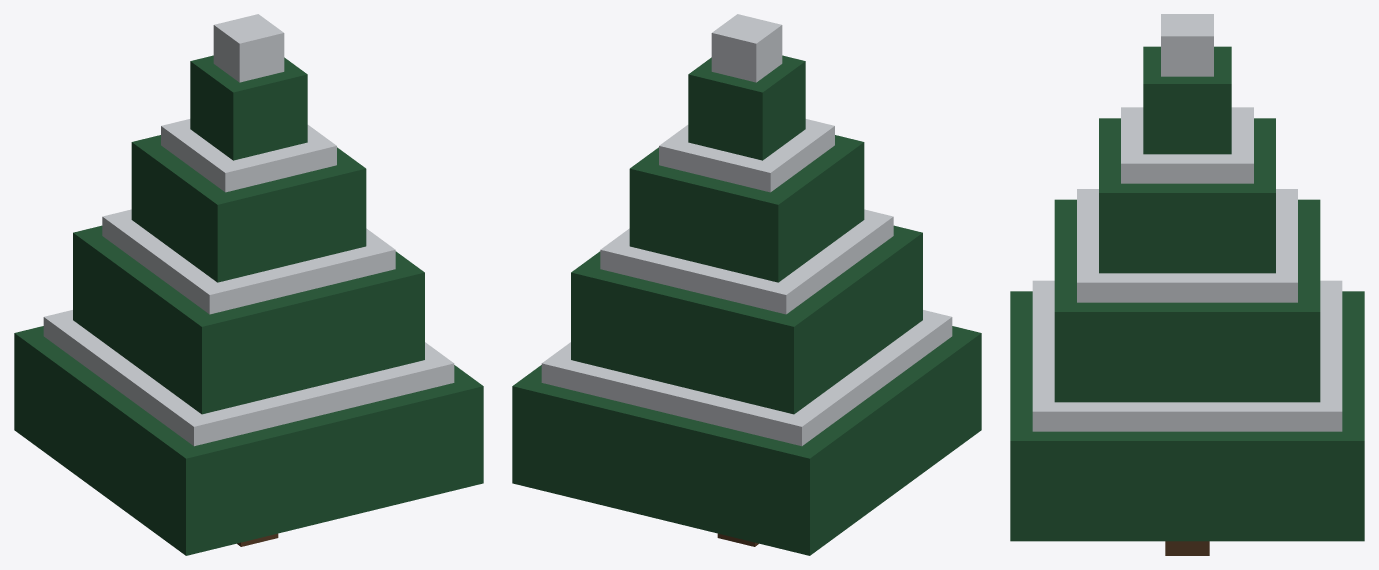
Rendered from ntu-snow-pine.glb.
3 views of the same model, side by side, from view 1: azimuth 30°, elevation 25°; view 2: azimuth 150°, elevation 25°; view 3: azimuth 270°, elevation 25° (orthographic). The views are drawn at different scales.
Parts seen in each view (by area): view 1: box-prop; view 2: box-prop; view 3: box-prop.
Boxes of the visible parts, <box> form: box-prop: <box>14,14,483,555</box>; box-prop: <box>512,14,981,555</box>; box-prop: <box>1010,14,1364,555</box>.
Size of the model in its own units: 1.6 by 2.6 by 1.6.
